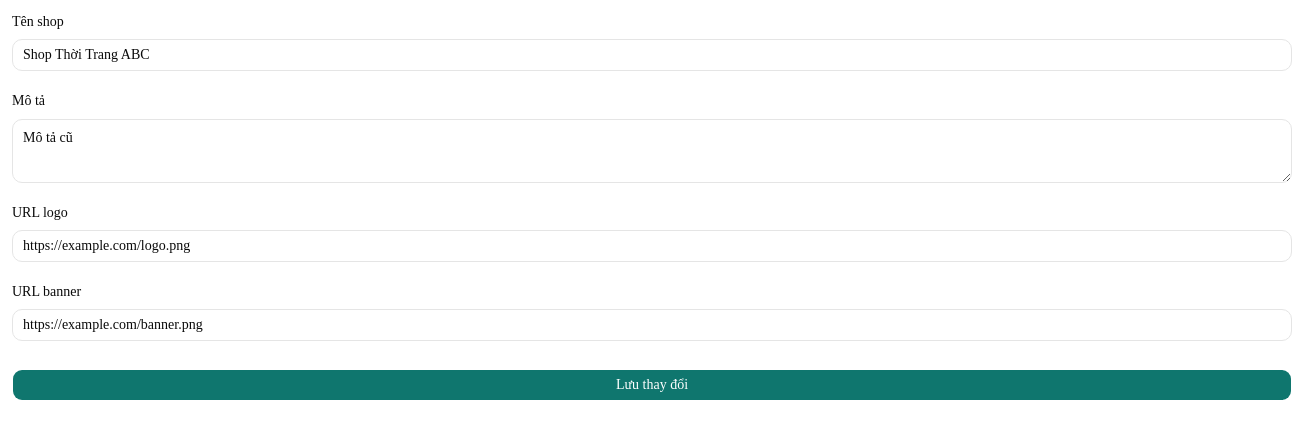
it: UpdateShopForm › shows a field error and does not submit when name is cleared
Step 1. Clear the field labelled "Tên shop" → (652, 55), box [12,39,1292,71]
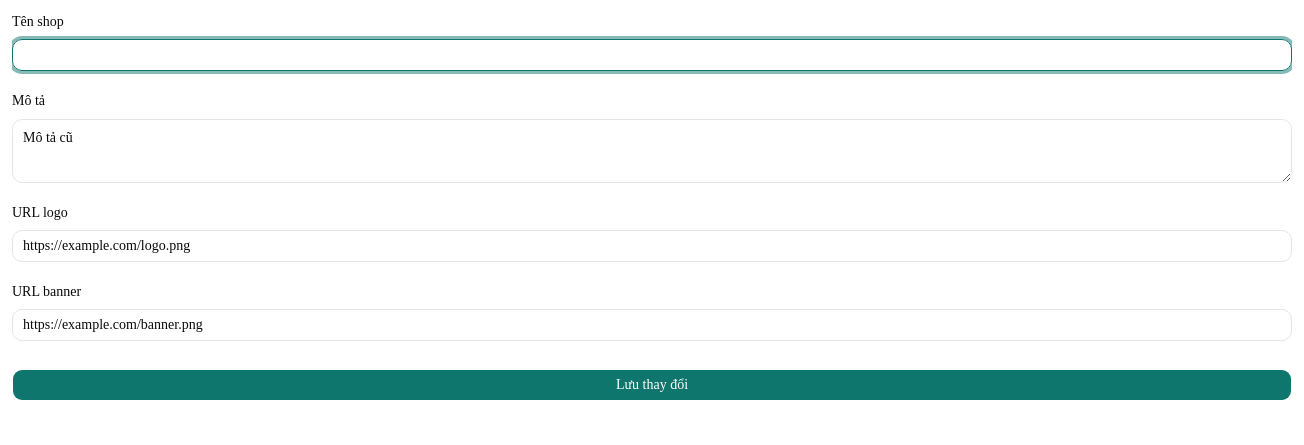
Step 2. Click the button "Lưu thay đổi" → (652, 385), box [12,369,1292,401]
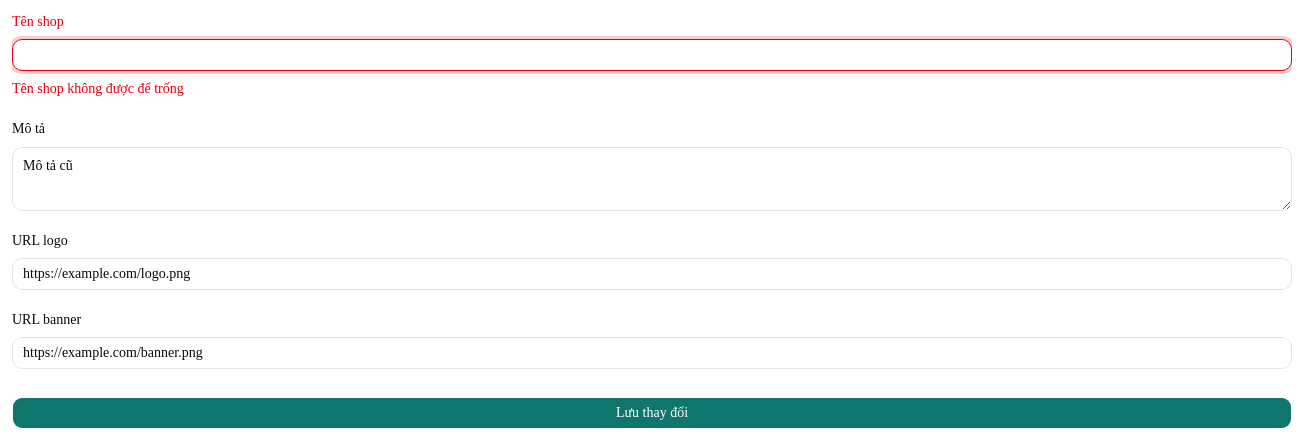
Now the text "Tên shop không được để trống" is shown, box [12,81,184,96]
